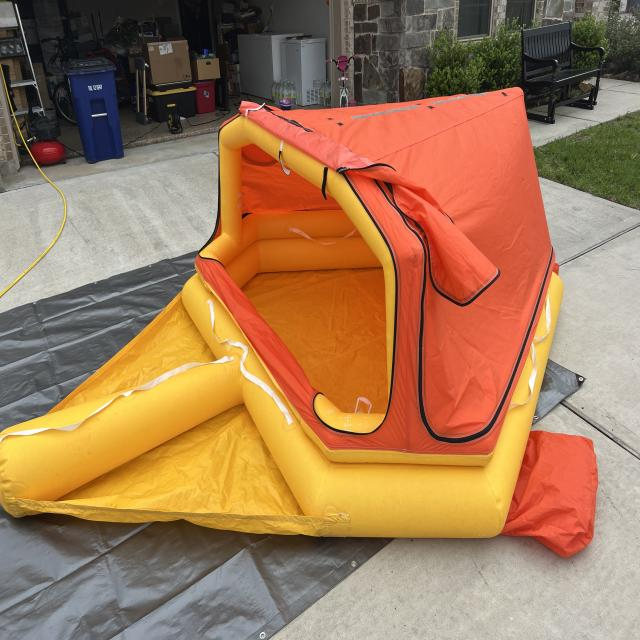Multi-person_life_raft: (0, 86, 598, 559)
